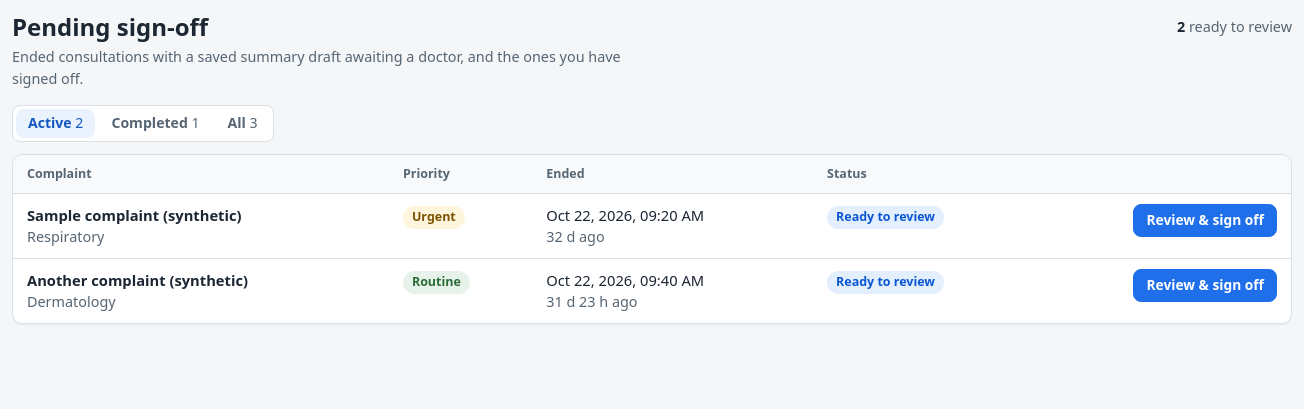
Test: PendingSignoff (doctor) › keeps the doctor's completed sign-offs under Completed, linking to the summary (ADR-0009)
The width and height of the screenshot is (1304, 409).
Expected: the number of links "Review & sign off" is 2, [1134,204,1277,237]; [1134,269,1277,302]
Expected: the text "Signed complaint (synthetic)" is not shown
Click the button "Completed 1" at x=155, y=123, box [99,109,212,138]
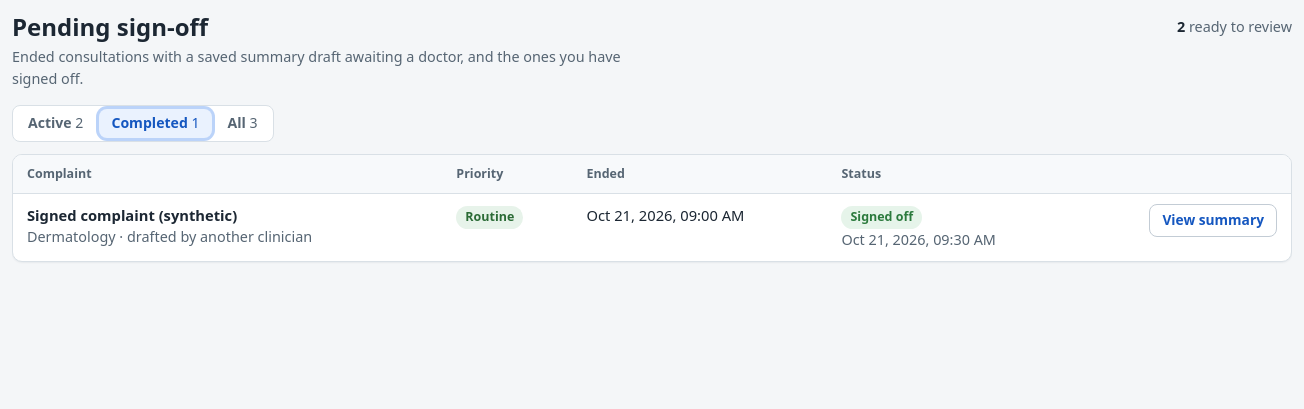
Result: the text "Signed complaint (synthetic)" is shown at [27,205,237,225]
Result: the text "Signed off" is shown at [842,206,922,229]
Click the button "All 3" at x=242, y=123, box [216,109,270,138]
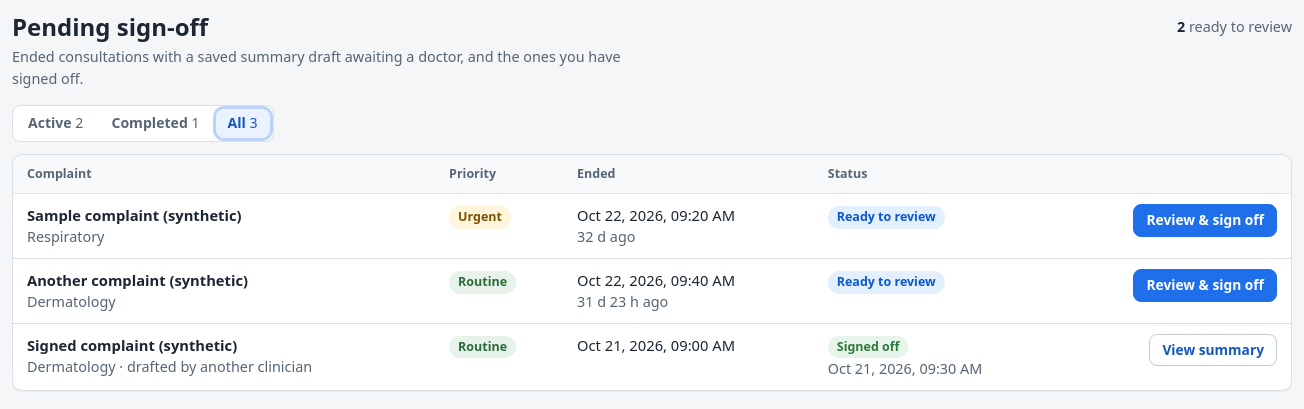
Result: the number of links "Review & sign off" is 3 at [1134,204,1277,237]; [1134,269,1277,302]; [1149,334,1277,366]
